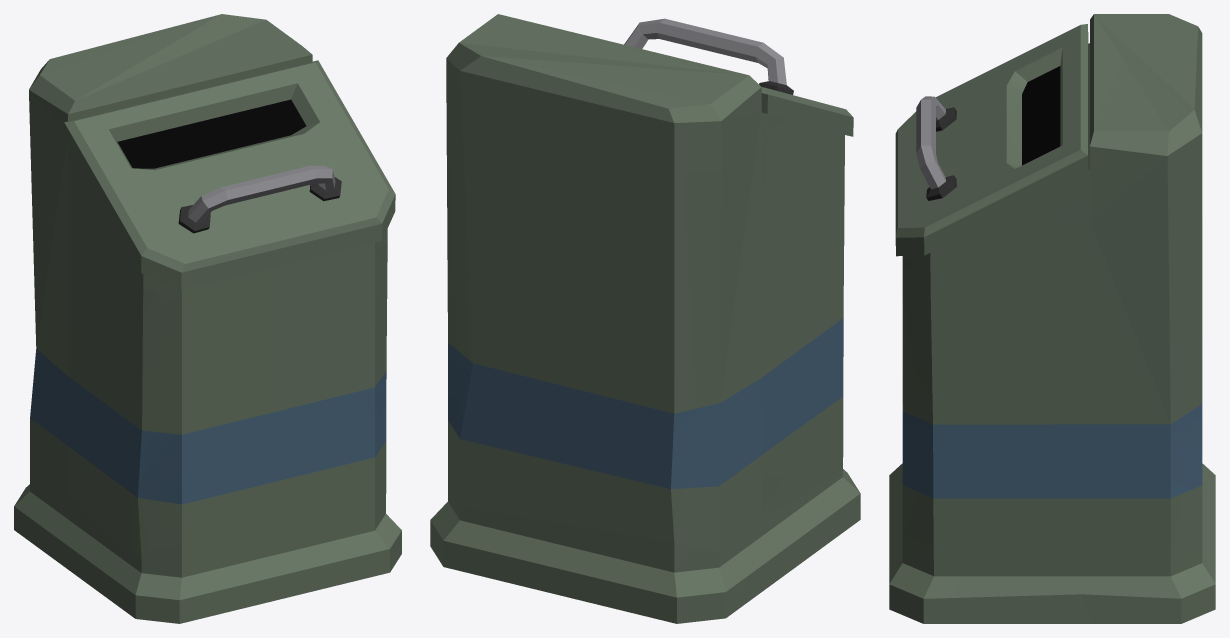
The model's file is SM_Prob_Rubbish_MOD.fbx.
3 renders of one model, left to right at view 1: azimuth 30°, elevation 25°; view 2: azimuth 150°, elevation 25°; view 3: azimuth 270°, elevation 25°, orthographic. The views are drawn at different scales.
Parts seen in each view (by area): view 1: SM_Prop_Rubbish_Bin_01, SM_Prop_Rubbish_Bin_01_Lid; view 2: SM_Prop_Rubbish_Bin_01, SM_Prop_Rubbish_Bin_01_Lid; view 3: SM_Prop_Rubbish_Bin_01, SM_Prop_Rubbish_Bin_01_Lid.
Part boxes in pixels (x1,y1,x2,y2): SM_Prop_Rubbish_Bin_01: (14, 14, 401, 623); SM_Prop_Rubbish_Bin_01_Lid: (64, 60, 395, 289); SM_Prop_Rubbish_Bin_01: (430, 14, 860, 623); SM_Prop_Rubbish_Bin_01_Lid: (624, 18, 853, 136); SM_Prop_Rubbish_Bin_01: (889, 14, 1215, 623); SM_Prop_Rubbish_Bin_01_Lid: (895, 24, 1088, 256).
Bounding box in the file's own units: 57.55 × 94.8 × 57.55.
